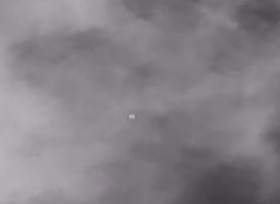Target: (130, 115, 135, 118)
